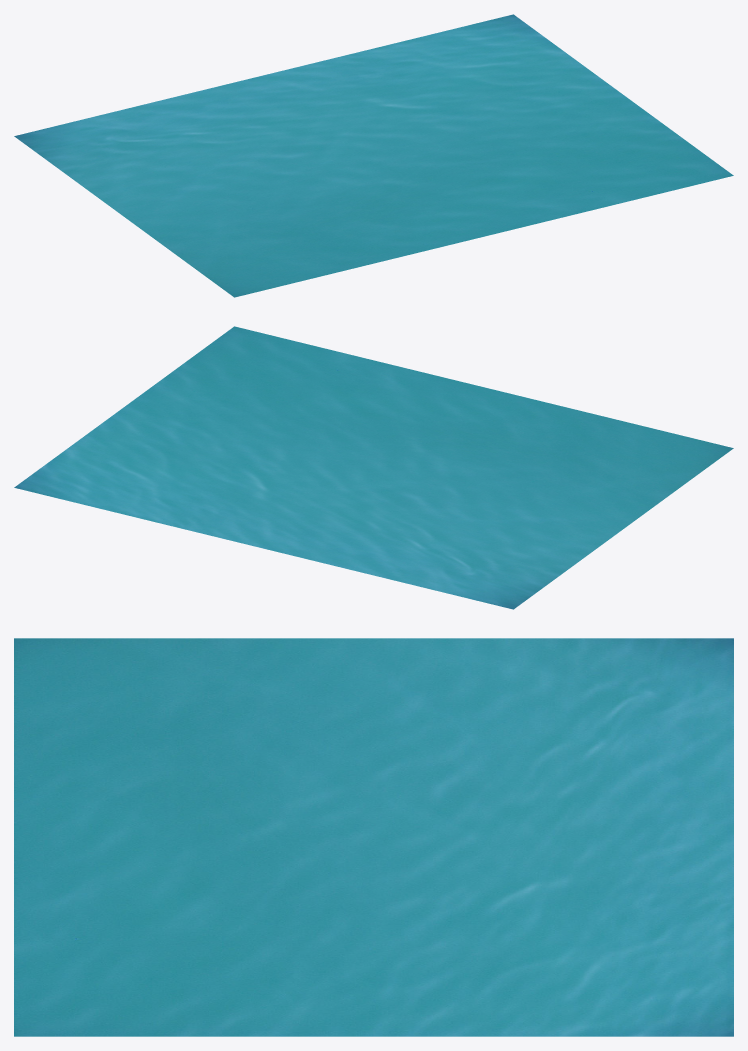
The model's file is water.obj.
3 views of the same model, one above another, from view 1: azimuth 30°, elevation 25°; view 2: azimuth 150°, elevation 25°; view 3: azimuth 270°, elevation 25° (orthographic). The views are drawn at different scales.
Visible parts, largest first — view 1: Plane001; view 2: Plane001; view 3: Plane001.
Part boxes in pixels (<box>): Plane001: <box>14,14,733,297</box>; Plane001: <box>14,326,733,609</box>; Plane001: <box>14,638,733,1036</box>.
Size of the model in its own units: 71.2 by 0 by 54.43.
Materials: 1 (1 with a texture image).
